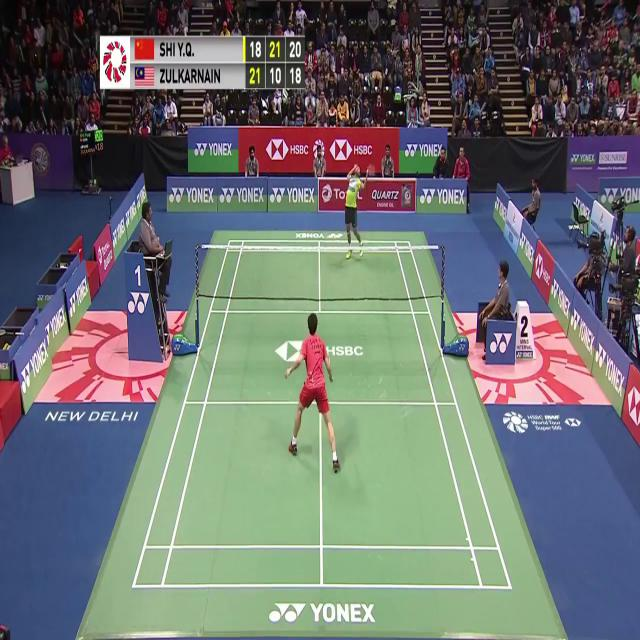Shuttlecock: (363, 76, 370, 88)
